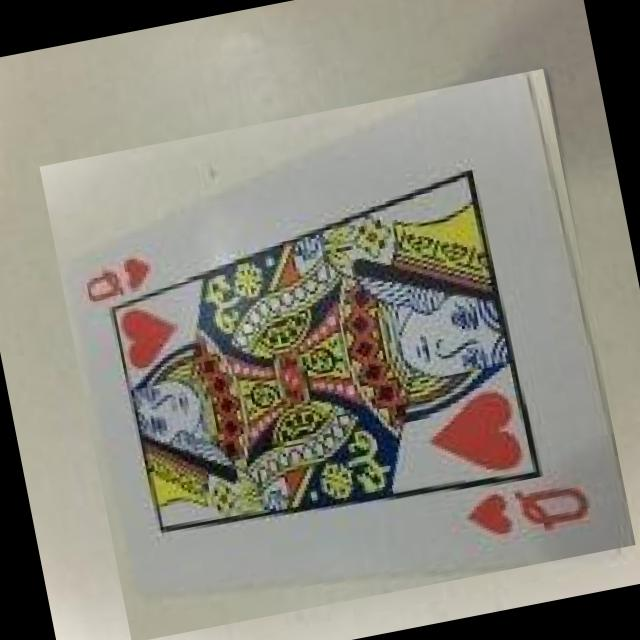Queen of hearts: (67, 72, 633, 595)
